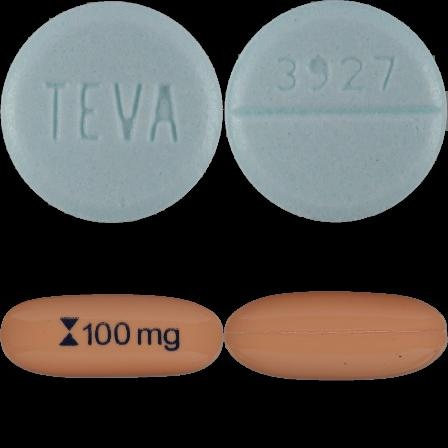55154-6344: (0, 0, 224, 224)
